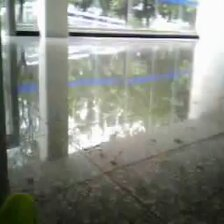tennis: (1, 192, 40, 224)
